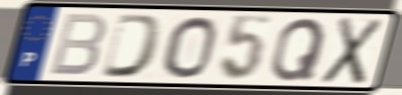5: (219, 14, 274, 84)
B: (47, 12, 109, 78)
D: (98, 12, 166, 80)
O: (160, 15, 219, 81)
Q: (268, 16, 329, 84)
X: (318, 15, 386, 87)
